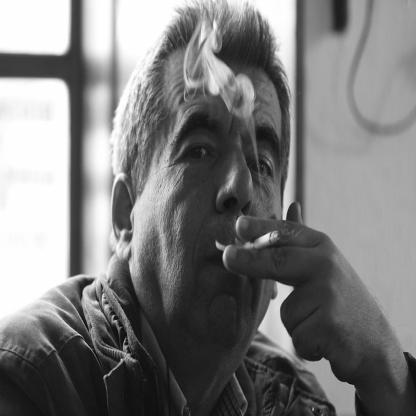smoking: (238, 231, 282, 252)
